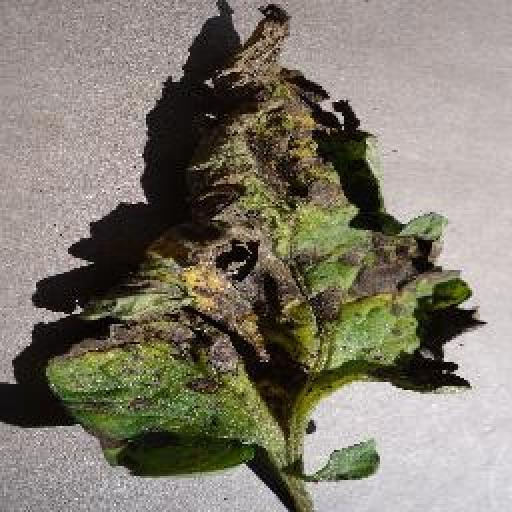Early Blight: (43, 4, 476, 445)
